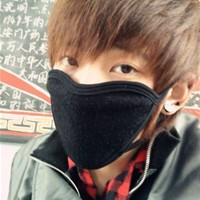face_mask: (46, 51, 150, 173)
